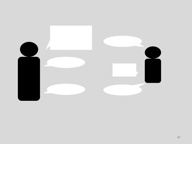left_oneway: (44, 22, 94, 53)
left_speech: (43, 80, 86, 97), (42, 55, 87, 70)
right_oneway: (108, 58, 139, 79)
right_speech: (102, 32, 144, 49), (102, 81, 146, 97)
